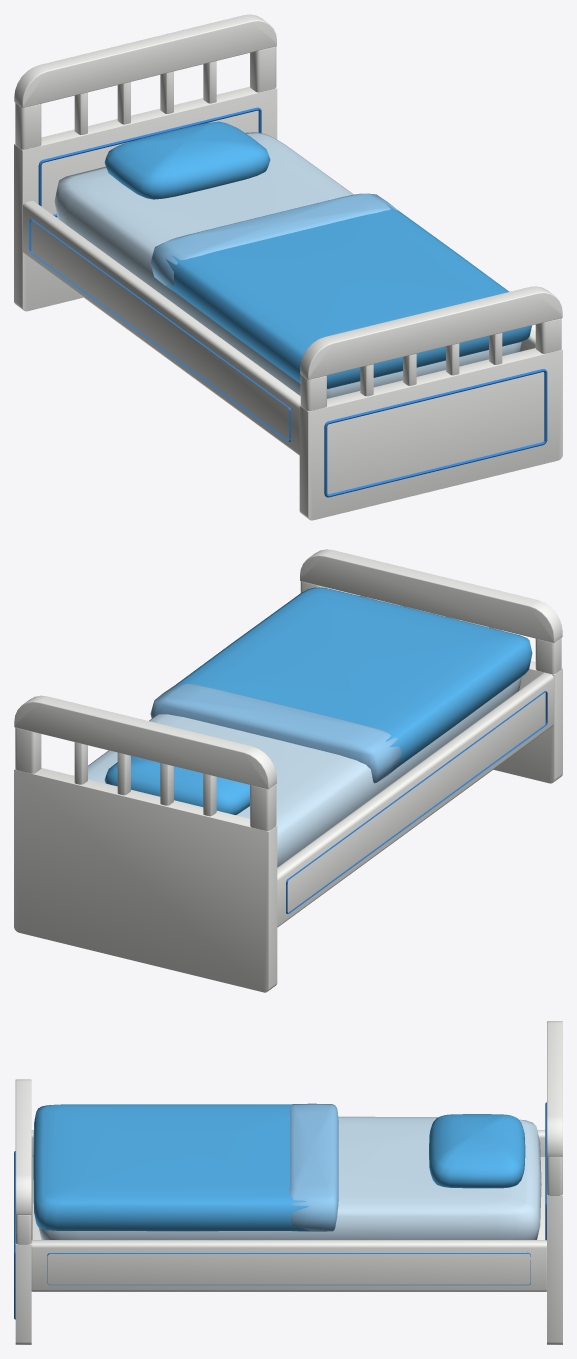
The model's file is cama_solteiro_friso_azul.glb.
3 views of the same model, one above another, from view 1: azimuth 30°, elevation 25°; view 2: azimuth 150°, elevation 25°; view 3: azimuth 270°, elevation 25° (orthographic). The views are drawn at different scales.
Parts seen in each view (by area): view 1: cama_solteiro_friso_azul; view 2: cama_solteiro_friso_azul; view 3: cama_solteiro_friso_azul.
Boxes of the visible parts, x1=… form: cama_solteiro_friso_azul: x1=14, y1=14, x2=562, y2=520; cama_solteiro_friso_azul: x1=14, y1=549, x2=562, y2=992; cama_solteiro_friso_azul: x1=14, y1=1021, x2=562, y2=1344.
Size of the model in its own units: 1.03 by 0.9 by 2.05.
Materials: 1 (1 with a texture image).
